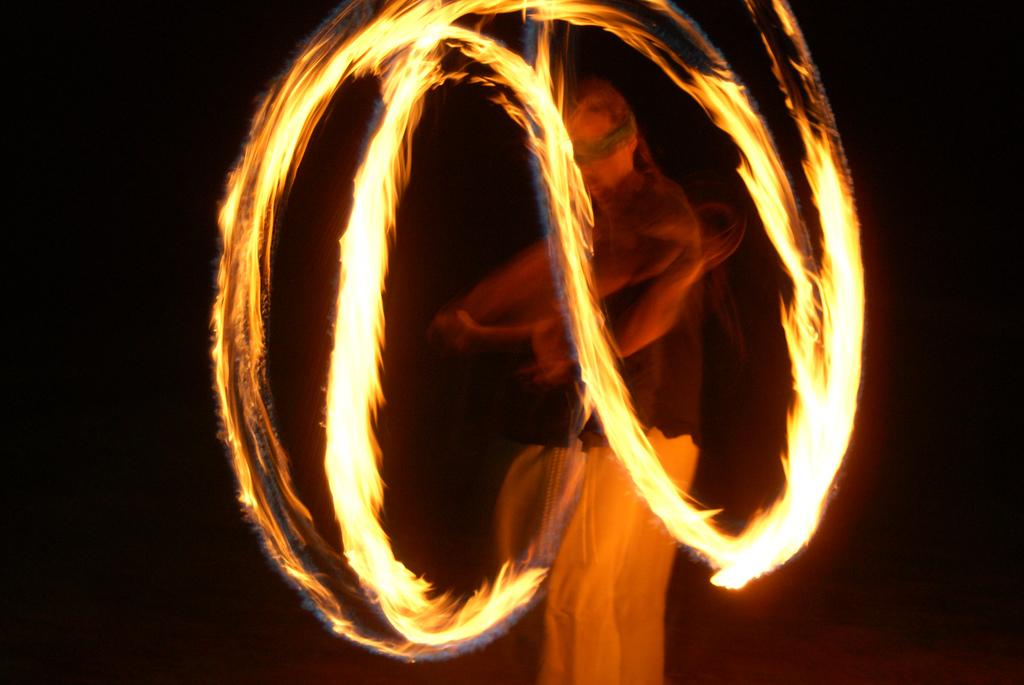fire: (783, 207, 862, 485), (350, 0, 565, 83), (340, 175, 380, 533)
